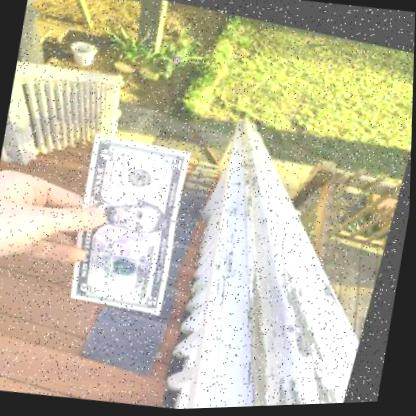five-front: (79, 133, 195, 313)
